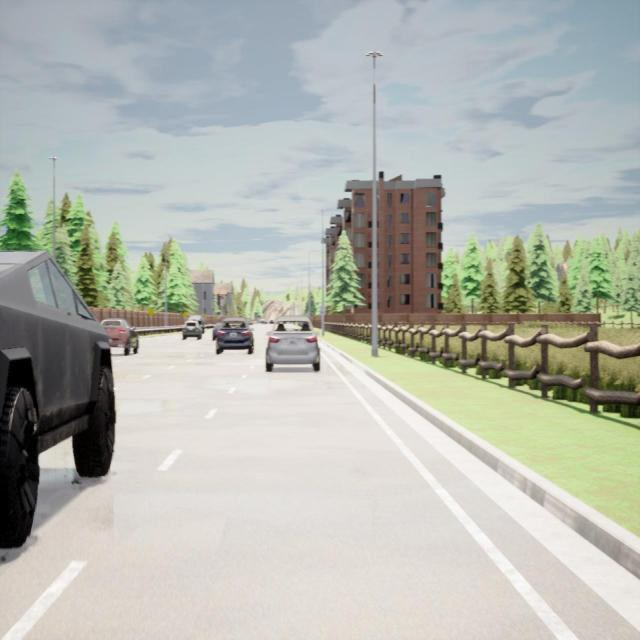Traffic_Signs: (320, 306, 326, 315)
Vehicle: (0, 246, 117, 546), (264, 319, 321, 373), (216, 317, 254, 353), (100, 320, 139, 354), (182, 319, 202, 340), (188, 316, 205, 332), (212, 325, 223, 340)
